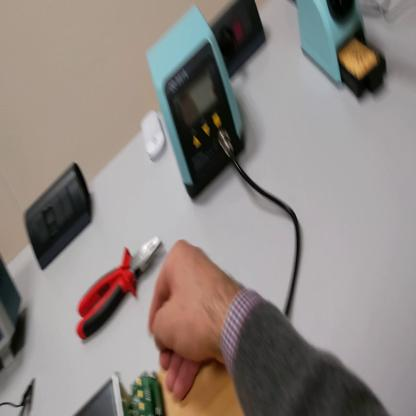hand: (148, 238, 237, 401)
low voltage board: (70, 368, 167, 416)
oscilloscope: (2, 251, 25, 371)
pliers: (76, 226, 164, 345)
socket: (211, 1, 268, 79)
welder base: (297, 3, 389, 103)
welder station: (143, 6, 248, 205)
working area: (154, 357, 243, 416)
